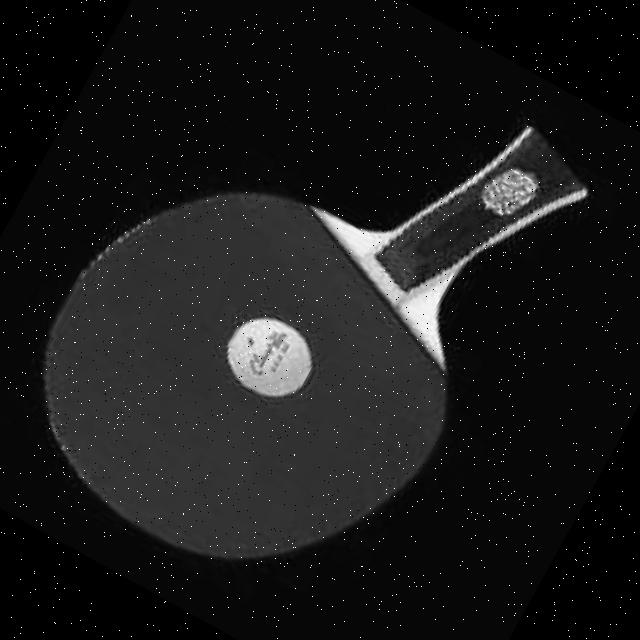ping-pong-ball: (210, 300, 327, 412)
